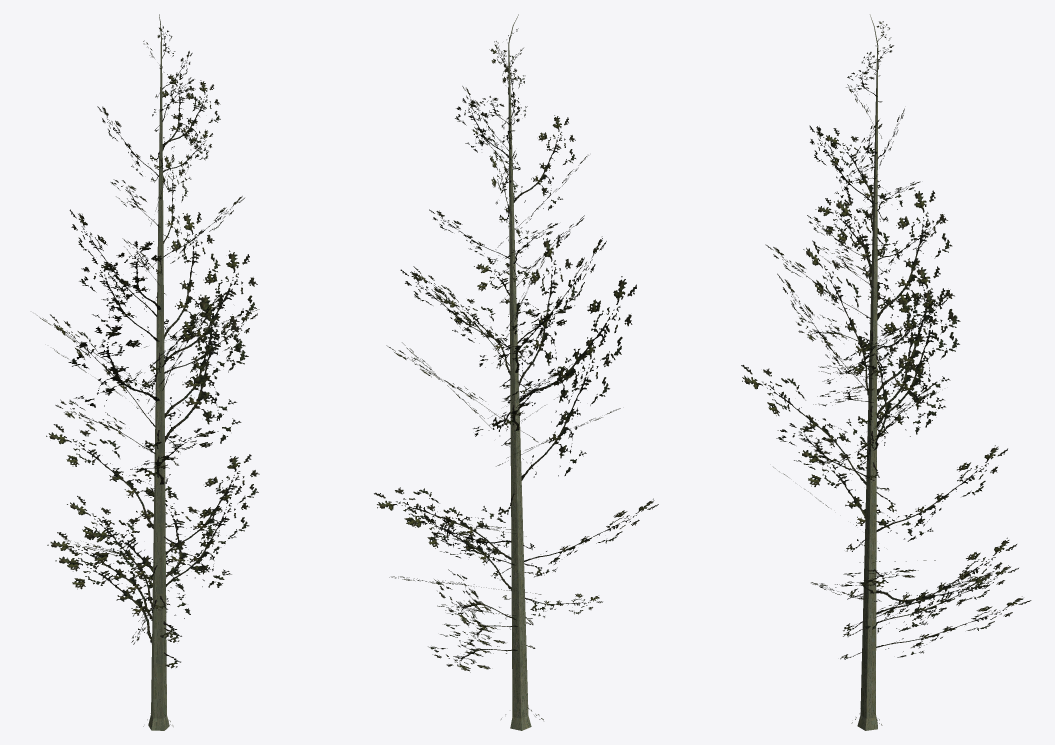
The model's file is cedar1_hi.obj.
The picture shows the model from 3 angles, left to right: view 1: azimuth 30°, elevation 25°; view 2: azimuth 150°, elevation 25°; view 3: azimuth 270°, elevation 25°; orthographic projection.
Parts seen in each view (by area): view 1: Cedar1_hi; view 2: Cedar1_hi; view 3: Cedar1_hi.
Boxes of the visible parts, box(x1,y1,x2,y2) form: Cedar1_hi: box(37, 14, 259, 730); Cedar1_hi: box(374, 14, 658, 730); Cedar1_hi: box(741, 14, 1031, 730).
Size of the model in its own units: 8.84 by 21.65 by 8.72.
Materials: 2 (2 with a texture image).
